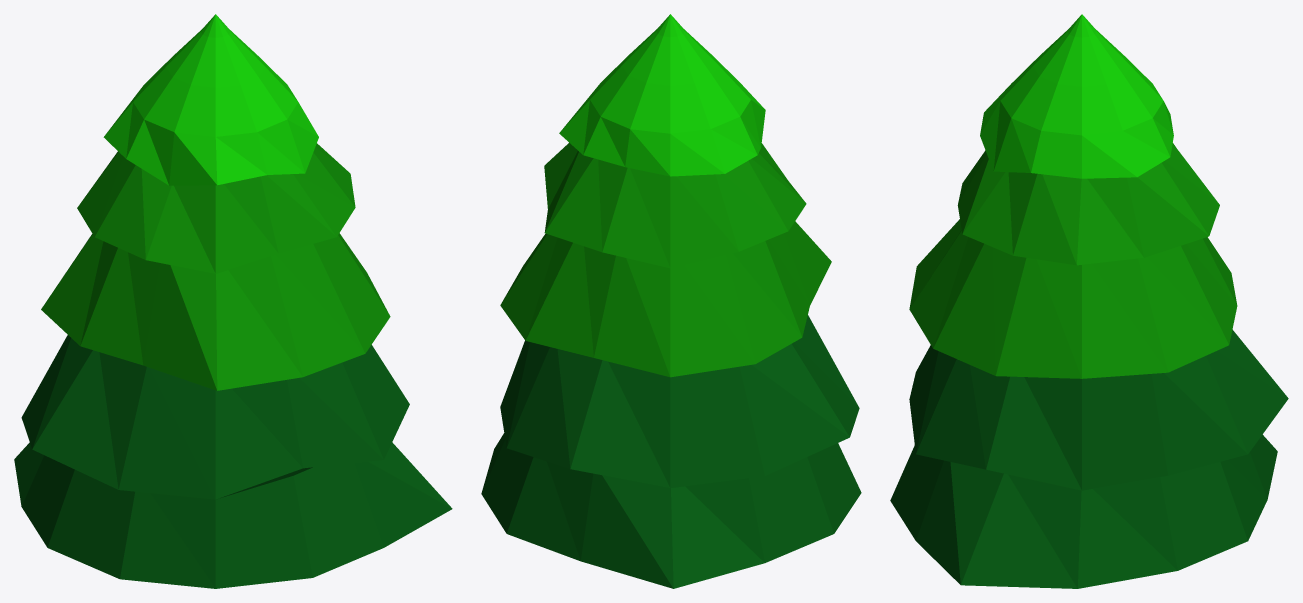
File: Tree4.fbx
The picture shows the model from 3 angles, left to right: view 1: azimuth 30°, elevation 25°; view 2: azimuth 150°, elevation 25°; view 3: azimuth 270°, elevation 25°; orthographic projection. The views are drawn at different scales.
Parts seen in each view (by area): view 1: Tree; view 2: Tree; view 3: Tree.
Boxes of the visible parts, bbox=[...] form: Tree: bbox=[14, 14, 452, 588]; Tree: bbox=[481, 14, 861, 588]; Tree: bbox=[890, 14, 1288, 588].
Size of the model in its own units: 611 by 784 by 582.
